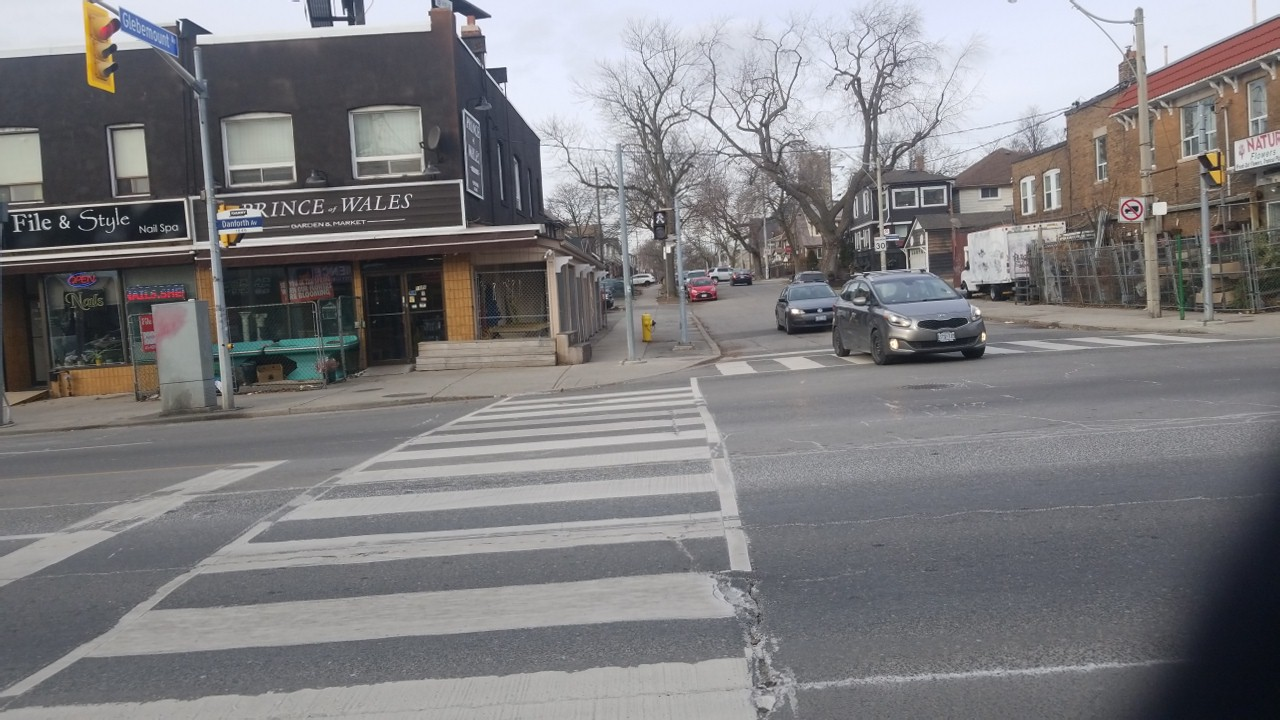light: (650, 208, 672, 242)
